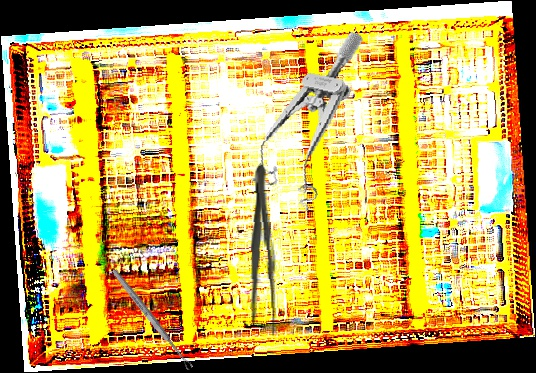Dressing Forceps: (244, 163, 280, 338)
Speculum: (247, 18, 365, 215)
Surgical Spoon: (110, 267, 194, 372)
